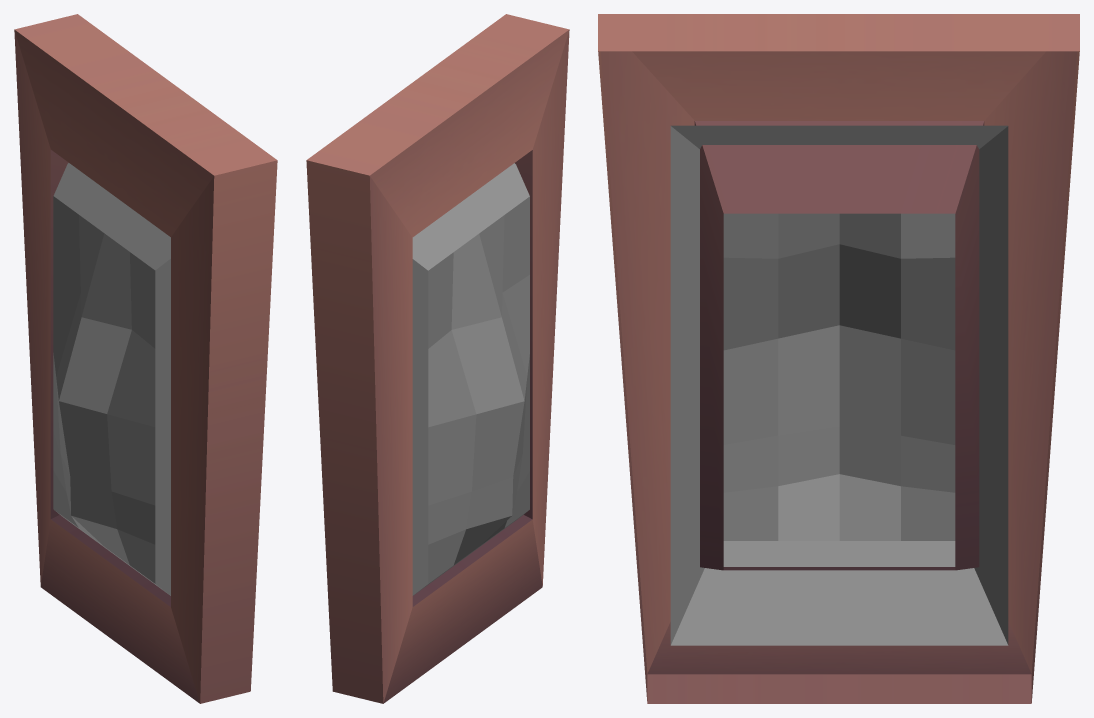
The model's file is SM_ArtPieceStefan.fbx.
3 renders of one model, left to right at view 1: azimuth 30°, elevation 25°; view 2: azimuth 150°, elevation 25°; view 3: azimuth 270°, elevation 25°, orthographic. The views are drawn at different scales.
Visible parts, largest first — view 1: SM_Painting; view 2: SM_Painting; view 3: SM_Painting.
Boxes of the visible parts, box(x1,y1,x2,y2) form: SM_Painting: box(14, 14, 277, 703); SM_Painting: box(306, 14, 569, 703); SM_Painting: box(598, 14, 1079, 703).
Size of the model in its own units: 39.15 by 101 by 152.
